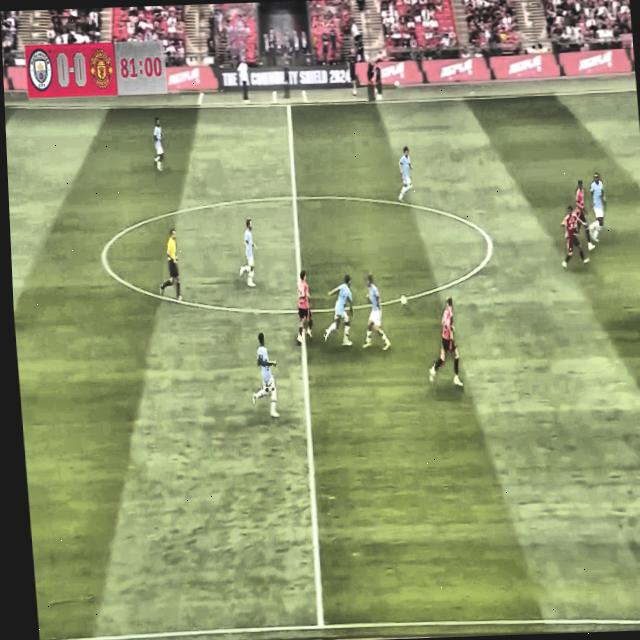ball: (397, 284, 410, 314)
players: (320, 271, 362, 357), (422, 301, 463, 387), (247, 331, 284, 421), (585, 167, 613, 251), (555, 202, 588, 272), (359, 278, 391, 349), (573, 173, 598, 260), (235, 215, 260, 292), (392, 138, 419, 208), (291, 266, 315, 344), (145, 106, 169, 174), (5, 112, 12, 176)
refree: (151, 222, 192, 306)
